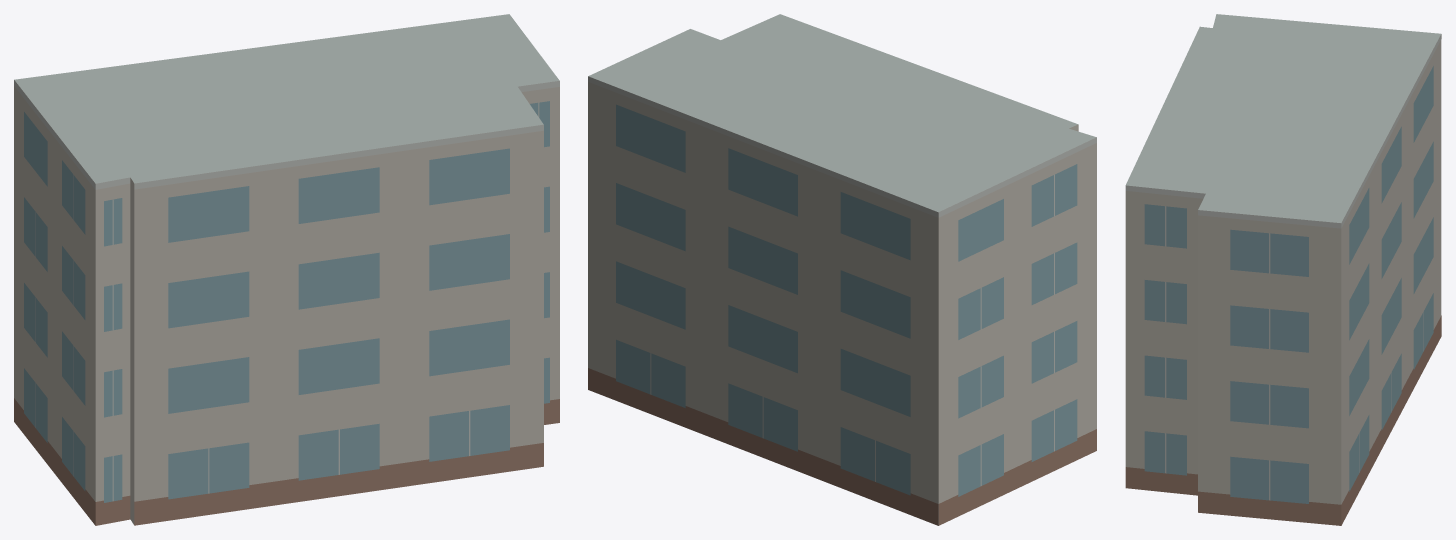
The model's file is survey-upis-32658432.glb.
The picture shows the model from 3 angles, left to right: view 1: azimuth 30°, elevation 25°; view 2: azimuth 150°, elevation 25°; view 3: azimuth 270°, elevation 25°; orthographic projection. The views are drawn at different scales.
Parts seen in each view (by area): view 1: survey-upis-32658432.tmp; view 2: survey-upis-32658432.tmp; view 3: survey-upis-32658432.tmp.
Boxes of the visible parts, box(x1,y1,x2,y2) form: survey-upis-32658432.tmp: box(14, 14, 559, 525); survey-upis-32658432.tmp: box(588, 14, 1096, 525); survey-upis-32658432.tmp: box(1125, 14, 1441, 525).
Bounding box in the file's own units: 20.31 × 13.7 × 12.97.
